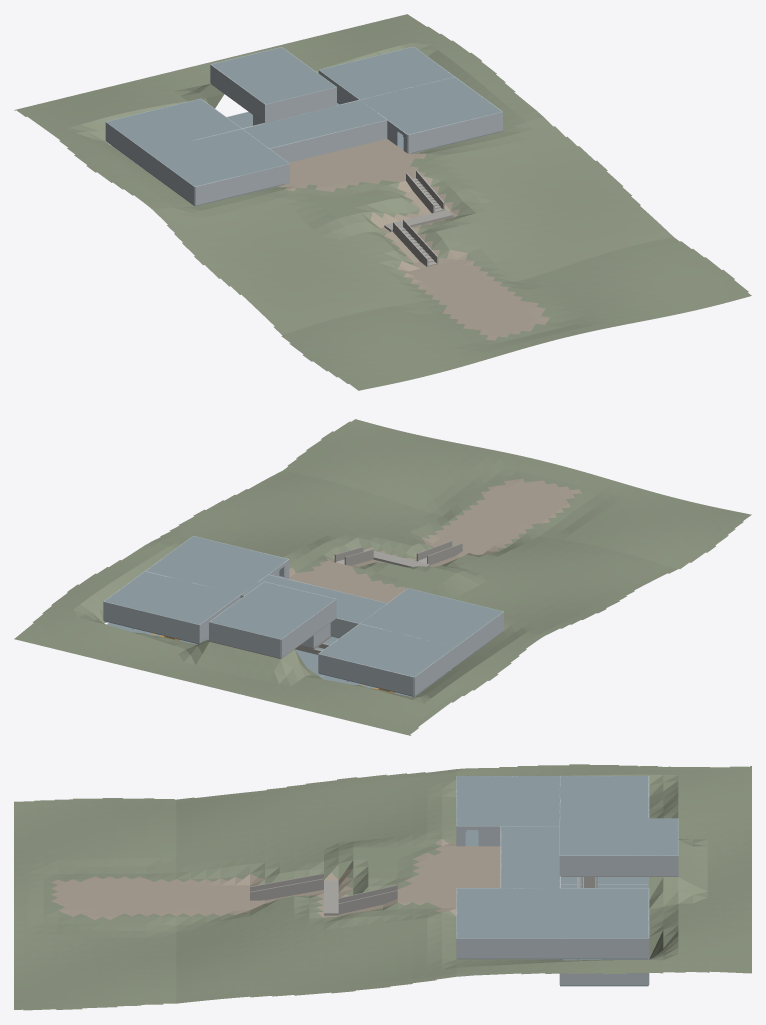
Rendered from powered-service-stack.glb.
The picture shows the model from 3 angles, top to bottom: view 1: azimuth 30°, elevation 25°; view 2: azimuth 150°, elevation 25°; view 3: azimuth 270°, elevation 25°; orthographic projection. The views are drawn at different scales.
Visible parts, largest first — view 1: WLD-17 saved ground, Ceiling cap west, Ceiling cap east, Ceiling cap service, Ceiling cap magazine, Ceiling cap director, Ceiling cap gallery, Wall gallery S, Wall east S, Wall west S, Wall director S, Wall director W (+2 smaller); view 2: WLD-17 saved ground, Ceiling cap west, Ceiling cap east, Ceiling cap director, Ceiling cap service, Ceiling cap magazine, Wall service N, Wall magazine N, Ceiling cap gallery, Wall director N, Wall director W, Wall west W (+1 smaller); view 3: WLD-17 saved ground, Ceiling cap east, Ceiling cap west, Ceiling cap service, Ceiling cap director, Ceiling cap magazine, Ceiling cap gallery, Wall director E, Wall east E, Wall service E, Wall plant E, Battery route-02 east anchored parapet region0 (+5 smaller).
Part boxes in pixels (x1=…): WLD-17 saved ground: x1=14, y1=14, x2=751, y2=390; Ceiling cap west: x1=148, y1=129, x2=289, y2=186; Ceiling cap east: x1=361, y1=77, x2=501, y2=134; Ceiling cap service: x1=319, y1=47, x2=454, y2=99; Ceiling cap magazine: x1=107, y1=99, x2=240, y2=151; Ceiling cap director: x1=211, y1=47, x2=335, y2=104; Ceiling cap gallery: x1=243, y1=100, x2=386, y2=148; Wall gallery S: x1=269, y1=120, x2=387, y2=162; Wall east S: x1=408, y1=112, x2=502, y2=153; Wall west S: x1=195, y1=164, x2=289, y2=205; Wall director S: x1=265, y1=87, x2=336, y2=122; Wall director W: x1=210, y1=64, x2=265, y2=122; WLD-17 saved ground: x1=14, y1=419, x2=751, y2=735; Ceiling cap west: x1=360, y1=588, x2=502, y2=646; Ceiling cap east: x1=146, y1=536, x2=287, y2=594; Ceiling cap director: x1=210, y1=582, x2=335, y2=639; Ceiling cap service: x1=104, y1=571, x2=240, y2=624; Ceiling cap magazine: x1=319, y1=624, x2=454, y2=676; Wall service N: x1=103, y1=601, x2=199, y2=643; Wall magazine N: x1=318, y1=654, x2=413, y2=695; Ceiling cap gallery: x1=241, y1=575, x2=386, y2=623; Wall director N: x1=209, y1=622, x2=280, y2=658; Wall director W: x1=281, y1=599, x2=336, y2=658; Wall west W: x1=456, y1=611, x2=503, y2=665; WLD-17 saved ground: x1=14, y1=764, x2=751, y2=1010; Ceiling cap east: x1=456, y1=888, x2=559, y2=938; Ceiling cap west: x1=456, y1=776, x2=559, y2=825; Ceiling cap service: x1=560, y1=888, x2=648, y2=938; Ceiling cap director: x1=560, y1=818, x2=678, y2=855; Ceiling cap magazine: x1=560, y1=776, x2=648, y2=818; Ceiling cap gallery: x1=501, y1=826, x2=559, y2=888; Wall director E: x1=560, y1=855, x2=678, y2=876; Wall east E: x1=456, y1=938, x2=559, y2=958; Wall service E: x1=560, y1=938, x2=648, y2=958; Wall plant E: x1=560, y1=973, x2=648, y2=985; Battery route-02 east anchored parapet region0: x1=250, y1=878, x2=323, y2=900.
Size of the model in its own units: 68 by 10.65 by 100.
